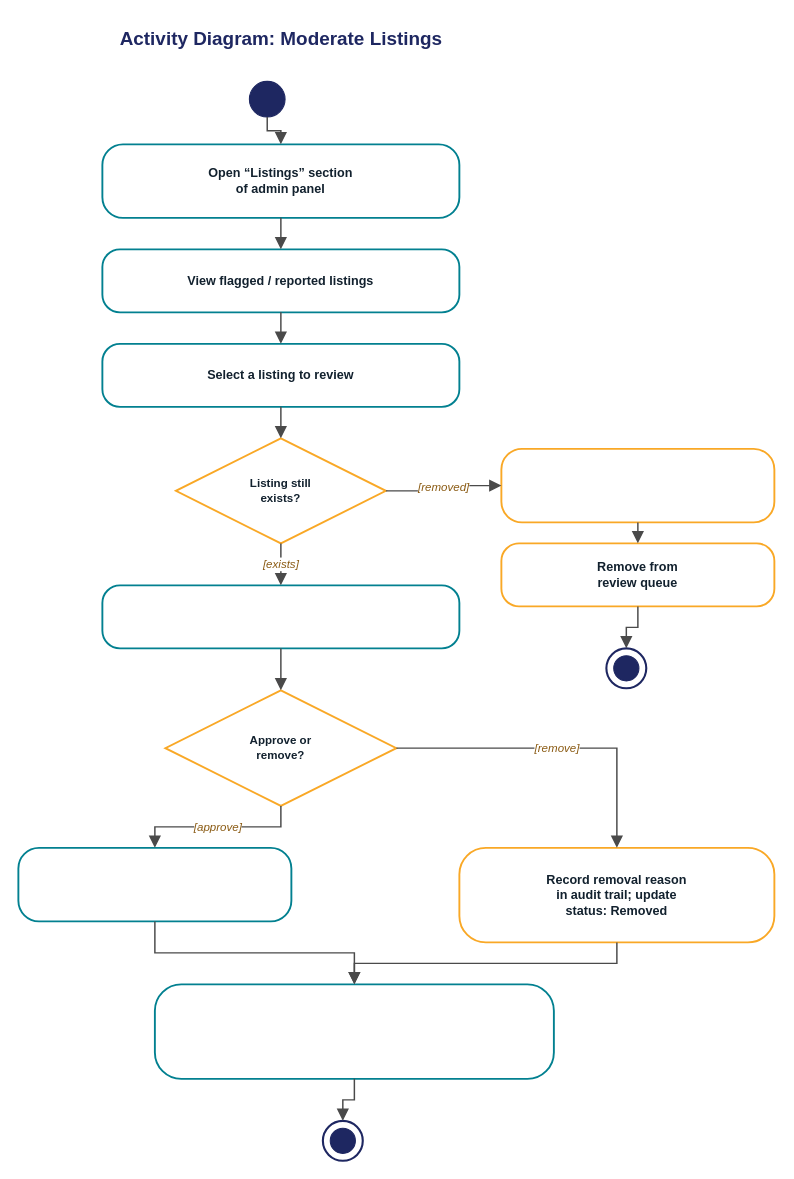
The diagram is 794 pixels wide and 1179 high, and some of its shapes have lost their labels. Each missing label, with the centre of its shape:
"Request Notification Service to notify the seller (include reason if removed)" goes at point (353, 1031).
"Review listing details" goes at point (280, 616).
"Show “listing no longer exists”" goes at point (637, 485).
"Update status: Approved" goes at point (154, 884).
